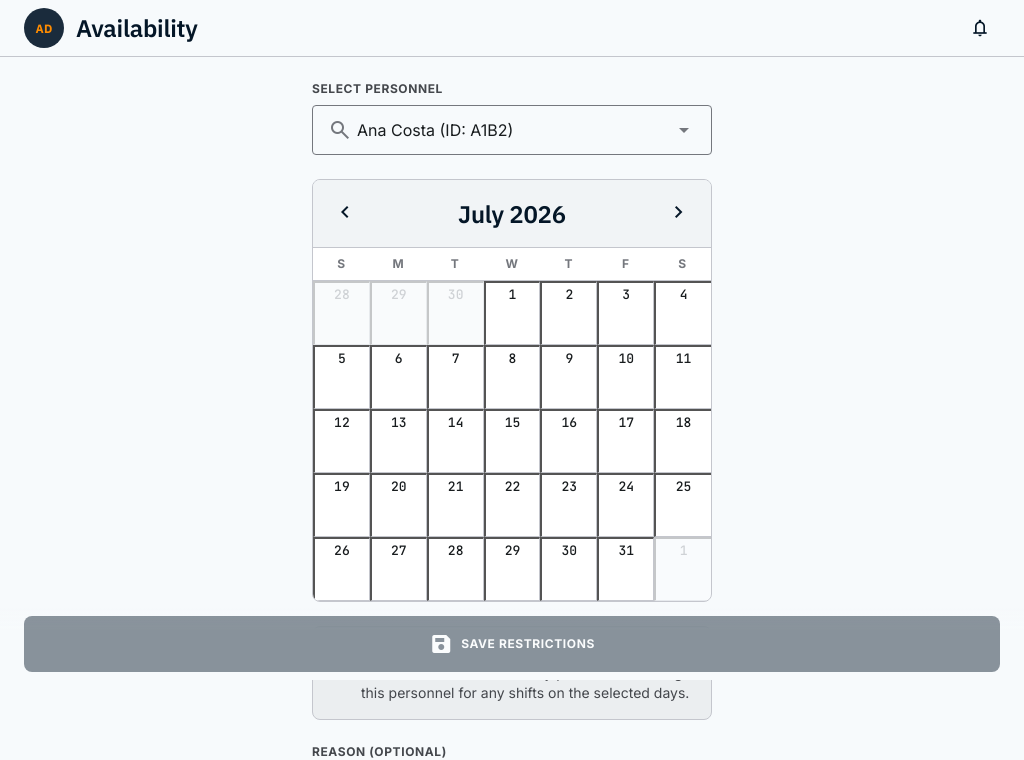
Scenario: UnavailableDaysPage › surfaces duplicate date error from API
Click the 1st button "1".
click(512, 313)  # box left=484, top=281, right=540, bottom=345
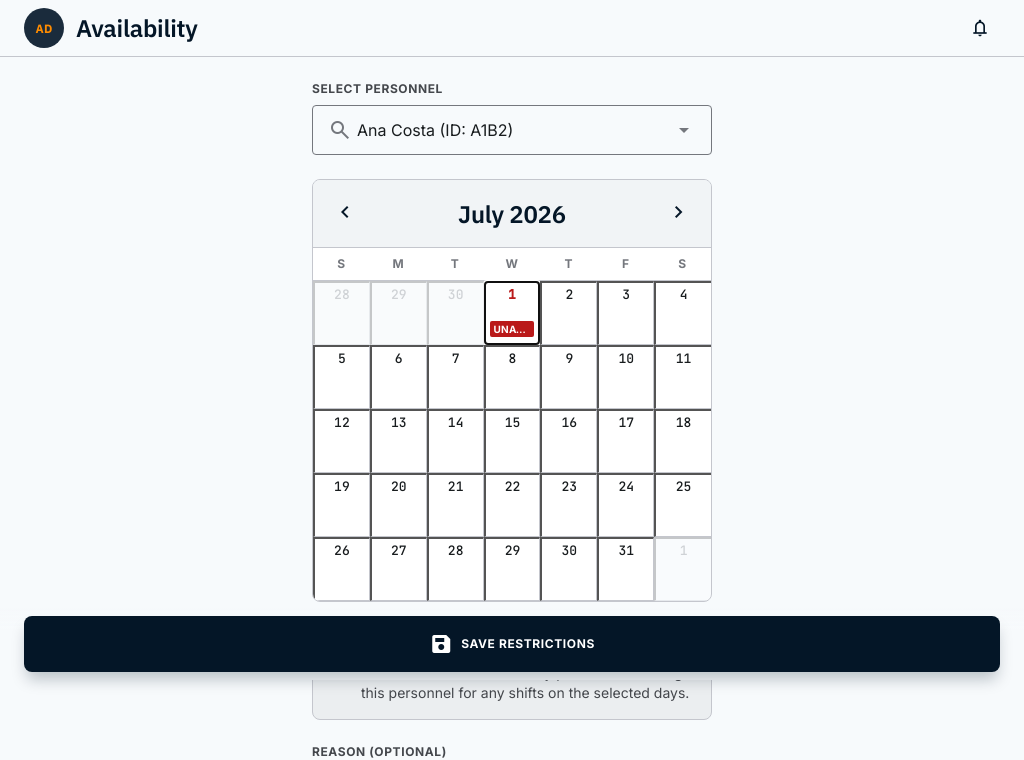
Click the button "SAVE RESTRICTIONS".
click(512, 644)  # box left=24, top=616, right=1000, bottom=672
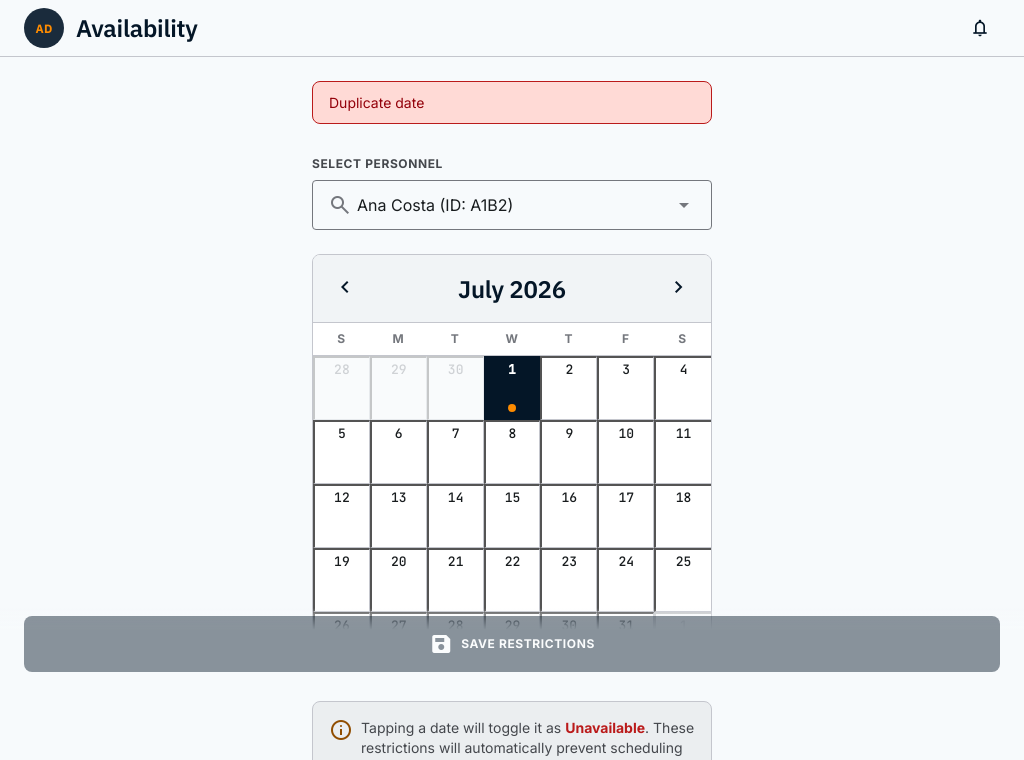
expect the message reads "Duplicate date": met, box left=329, top=94, right=424, bottom=111
